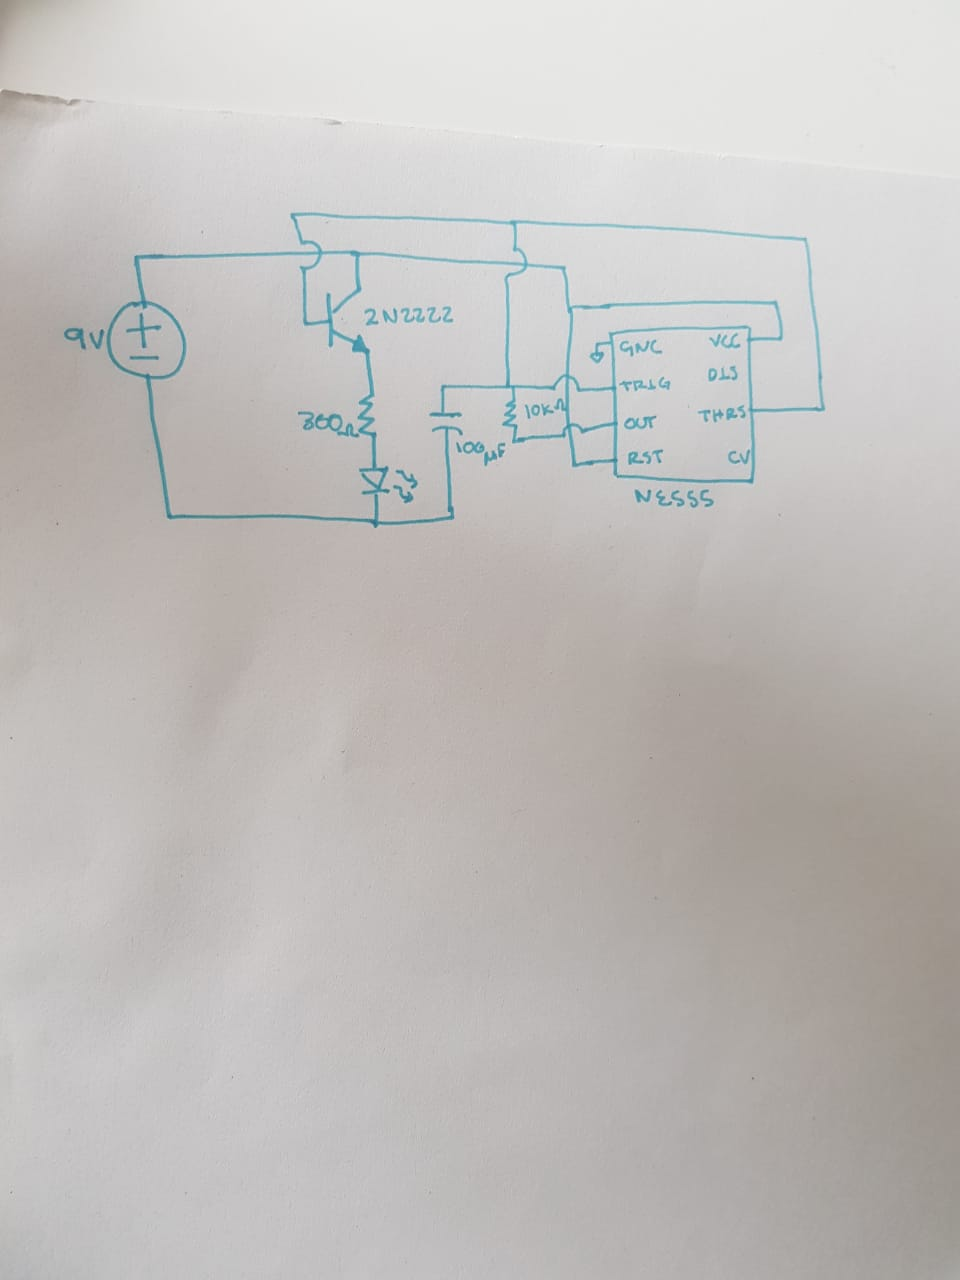capacitor.unpolarized: (426, 407, 467, 437)
crossover: (502, 243, 530, 280), (296, 237, 323, 272), (549, 373, 584, 392), (560, 422, 586, 438)
diode.light_emitting: (356, 460, 421, 505)
gnd: (587, 346, 606, 367)
integrated_cricuit.ne555: (604, 321, 762, 490)
junction: (444, 510, 459, 526), (130, 251, 147, 265), (162, 511, 178, 524), (814, 403, 829, 416), (351, 247, 365, 260), (371, 516, 383, 531), (564, 302, 576, 316), (299, 317, 312, 331), (557, 263, 570, 275), (568, 458, 581, 470), (288, 208, 299, 222), (503, 382, 519, 391), (799, 234, 811, 245), (438, 382, 449, 393), (509, 218, 521, 228), (510, 436, 519, 447), (776, 333, 785, 343), (772, 299, 781, 308), (593, 339, 601, 346)
resistor: (352, 386, 384, 449), (501, 396, 522, 429)
text: (363, 305, 461, 329), (631, 487, 716, 511), (295, 407, 357, 440), (456, 438, 506, 468), (61, 321, 103, 355), (696, 404, 747, 425), (617, 375, 674, 393), (617, 337, 664, 356), (704, 364, 741, 385), (525, 398, 562, 418), (623, 413, 659, 433), (625, 447, 666, 466), (708, 330, 741, 347), (726, 446, 750, 466)
transistor: (318, 273, 370, 359)
voltage.dc: (105, 295, 197, 389)
